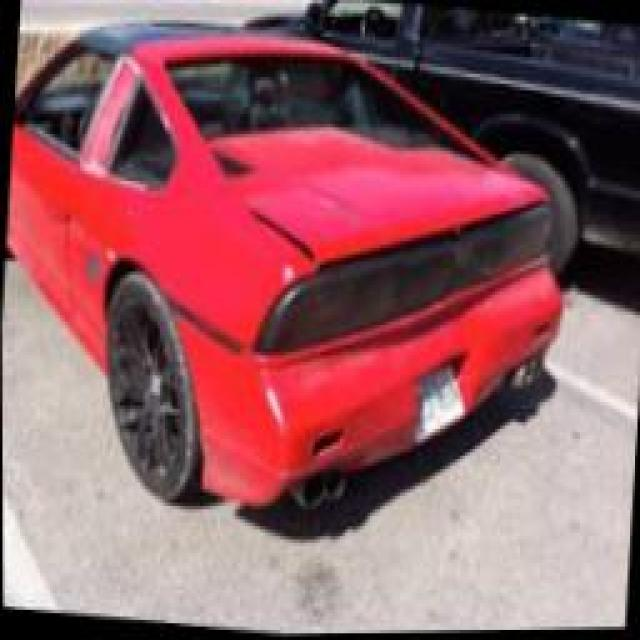Dickey: (240, 153, 545, 270)
Windshield: (166, 53, 492, 201)
